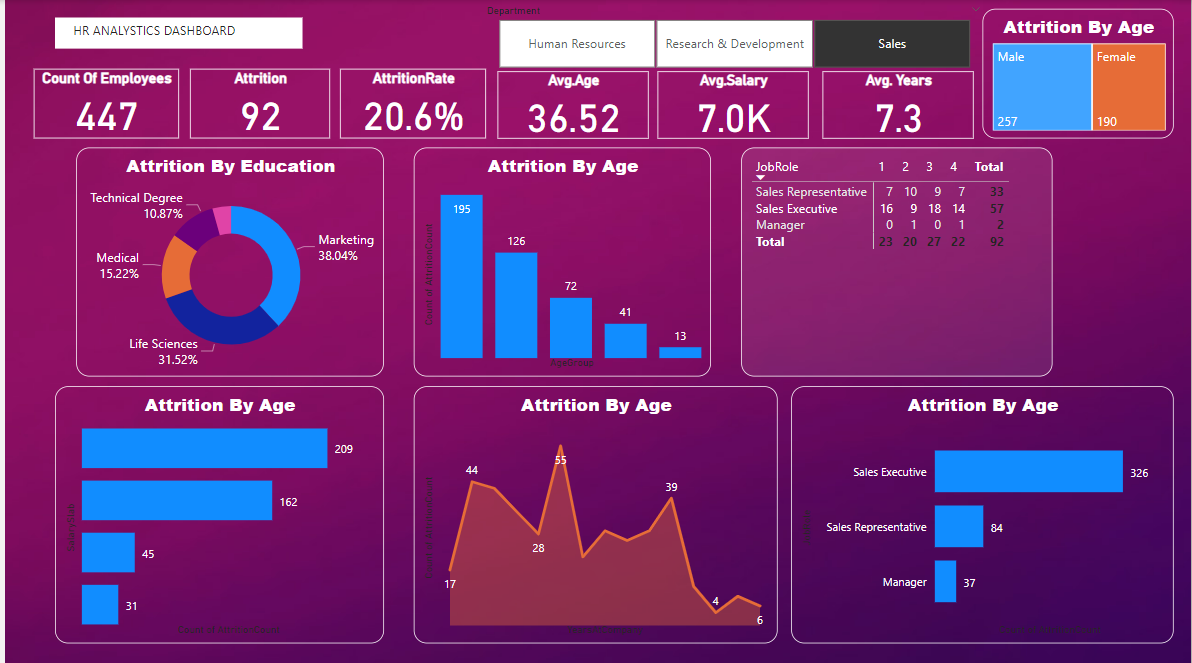

What the dashboard file says about the page in this screenshot:
{"tool":"powerbi","page":{"name":"Page 1","canvas":[1280,720],"ordinal":0},"visuals":[{"type":"card","title":"Count Of Employees","fields":{"Values":["CountNonNull(HR_Analytics.EmpID)"]},"box":[31,74.2,156.5,75.6],"z":0},{"type":"card","title":"Avg.Age","fields":{"Values":["Avg(HR_Analytics.Age)"]},"box":[531.7,76.9,163.3,72.9],"z":1000},{"type":"card","title":"AttritionRate","fields":{"Values":["HR_Analytics.AttritionRate"]},"box":[361.6,74.2,157.9,75.6],"z":2000},{"type":"card","title":"Attrition","fields":{"Values":["Sum(HR_Analytics.AttritionCount)"]},"box":[199.7,74.2,151.1,75.6],"z":3000},{"type":"card","title":"Avg. Years","fields":{"Values":["Avg(HR_Analytics.YearsAtCompany)"]},"box":[882.5,76.9,163.3,72.9],"z":4000},{"type":"card","title":"Avg.Salary","fields":{"Values":["Avg(HR_Analytics.MonthlyIncome)"]},"box":[704.4,76.9,163.3,72.9],"z":5000},{"type":"donutChart","title":"Attrition By Education","fields":{"Category":["HR_Analytics.EducationField"],"Y":["Sum(HR_Analytics.AttritionCount)"]},"box":[76.9,159.2,331.9,246.9],"z":6000},{"type":"columnChart","title":"Attrition By Age","fields":{"Category":["HR_Analytics.AgeGroup"],"Y":["CountNonNull(HR_Analytics.AttritionCount)"]},"box":[441.2,159.2,321.1,246.9],"z":7000},{"type":"pivotTable","fields":{"Rows":["HR_Analytics.JobRole"],"Columns":["HR_Analytics.JobSatisfaction"],"Values":["Sum(HR_Analytics.AttritionCount)"]},"box":[794.8,159.2,336,246.9],"z":8000},{"type":"barChart","title":"Attrition By Age","fields":{"Category":["HR_Analytics.SalarySlab"],"Y":["CountNonNull(HR_Analytics.AttritionCount)"]},"box":[54,417,354.9,278],"z":9000},{"type":"barChart","title":"Attrition By Age","fields":{"Category":["HR_Analytics.JobRole"],"Y":["CountNonNull(HR_Analytics.AttritionCount)"]},"box":[848.8,417,412.9,278],"z":10000},{"type":"areaChart","title":"Attrition By Age","fields":{"Category":["HR_Analytics.YearsAtCompany"],"Y":["CountNonNull(HR_Analytics.AttritionCount)"]},"box":[441.2,417,392.7,278],"z":11000},{"type":"treemap","title":"Attrition By Age","fields":{"Group":["HR_Analytics.Gender"],"Values":["CountNonNull(HR_Analytics.AttritionCount)"]},"box":[1055.2,9.4,206.5,140.3],"z":12000},{"type":"slicer","fields":{"Values":["HR_Analytics.Department"]},"box":[507.4,0,558.6,79.6],"z":13000},{"type":"textbox","box":[54,18.9,267.2,33.7],"z":14000}]}

Visuals, with their boxes in screenshot pixels (x1, y1, x2, y2), scaled from the page's 1280x720 canvas onto the 1192x663 screenshot:
"Count Of Employees" card: (29, 68, 175, 138)
"Avg.Age" card: (495, 71, 647, 138)
"AttritionRate" card: (337, 68, 484, 138)
"Attrition" card: (186, 68, 327, 138)
"Avg. Years" card: (822, 71, 974, 138)
"Avg.Salary" card: (656, 71, 808, 138)
"Attrition By Education" donutChart: (72, 147, 381, 374)
"Attrition By Age" columnChart: (411, 147, 710, 374)
pivotTable - HR_Analytics.JobRole x HR_Analytics.JobSatisfaction: (740, 147, 1053, 374)
"Attrition By Age" barChart: (50, 384, 381, 640)
"Attrition By Age" barChart: (790, 384, 1175, 640)
"Attrition By Age" areaChart: (411, 384, 777, 640)
"Attrition By Age" treemap: (983, 9, 1175, 138)
slicer - HR_Analytics.Department: (473, 0, 993, 73)
textbox: (50, 17, 299, 48)
